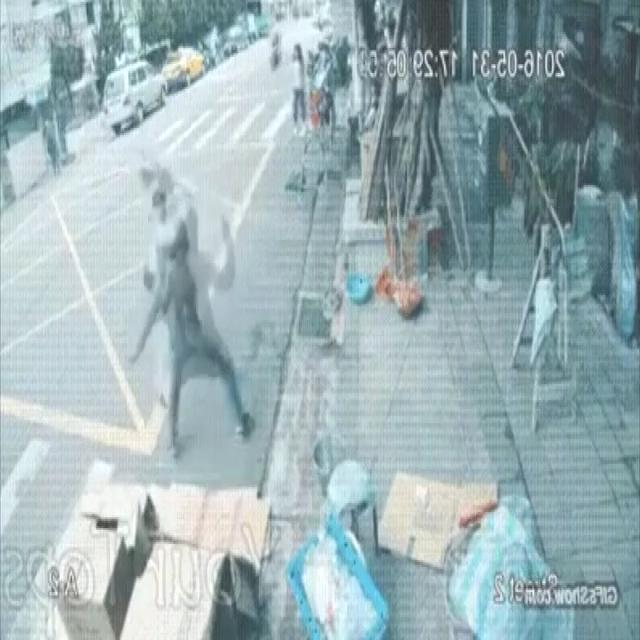fight: (141, 178, 252, 461)
